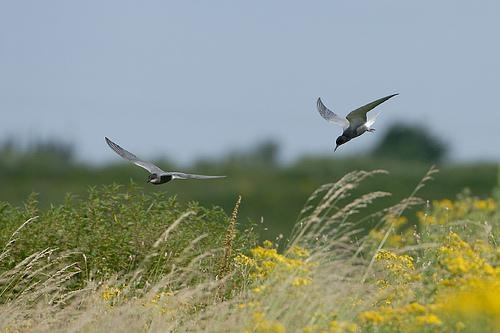bird: (103, 134, 228, 185), (315, 91, 399, 152)
